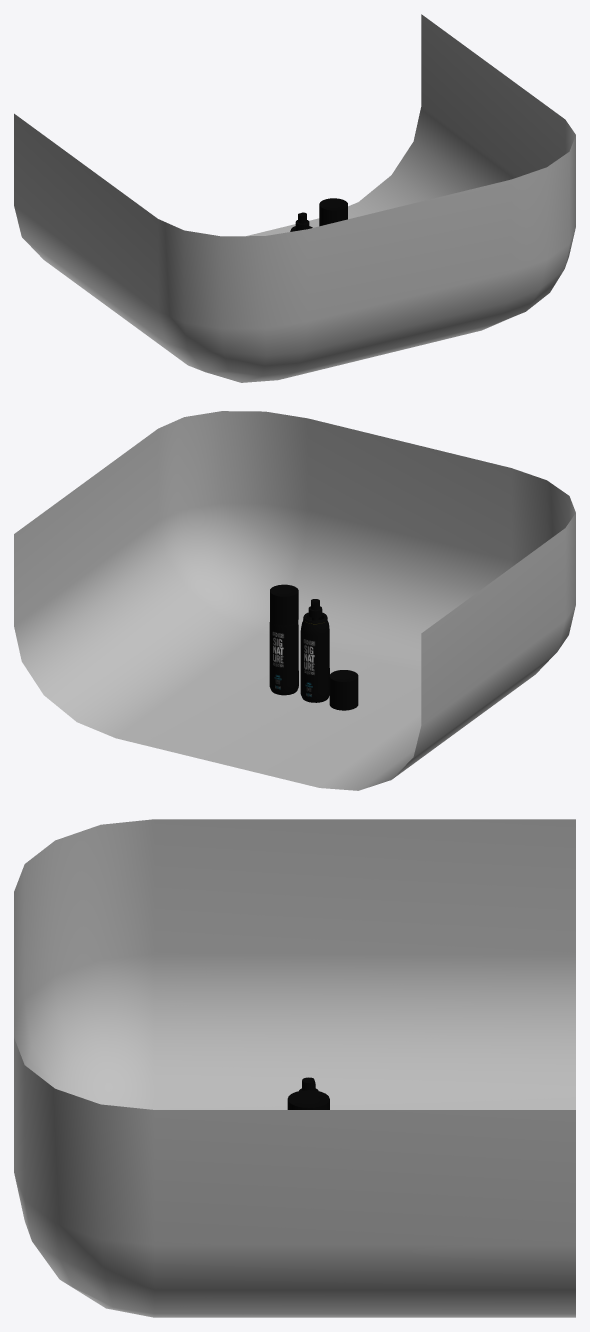
The model's file is axe_deodorant.glb.
3 views of the same model, one above another, from view 1: azimuth 30°, elevation 25°; view 2: azimuth 150°, elevation 25°; view 3: azimuth 270°, elevation 25° (orthographic). The views are drawn at different scales.
Visible parts, largest first — view 1: Object_4, Object_6; view 2: Object_4, Object_5, Object_6; view 3: Object_4, Object_6.
Part boxes in pixels (x1,y1,x2,y2): Object_4: [14, 14, 575, 382]; Object_6: [319, 198, 347, 226]; Object_4: [14, 411, 575, 790]; Object_5: [269, 620, 329, 702]; Object_6: [270, 584, 358, 710]; Object_4: [14, 819, 575, 1317]; Object_6: [287, 1090, 329, 1109].
Bounding box in the file's own units: 32.01 × 13.47 × 26.15.
Materials: 8 (1 with a texture image).
